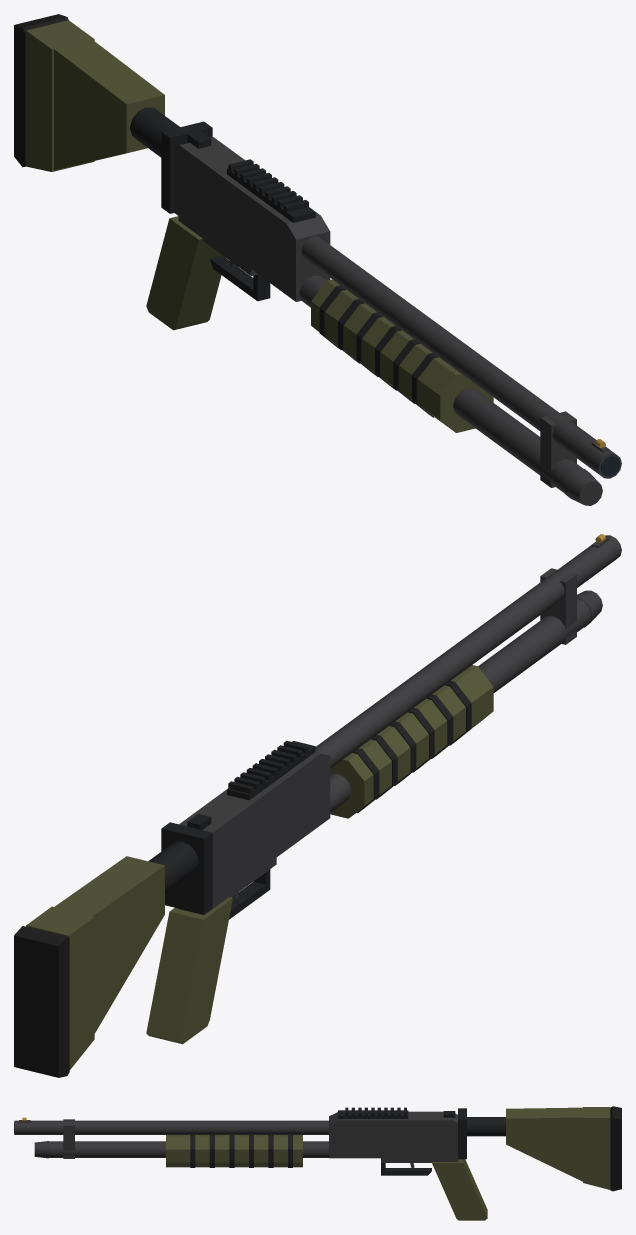
Rendered from shotgun.glb.
3 renders of one model, top to bottom at view 1: azimuth 30°, elevation 25°; view 2: azimuth 150°, elevation 25°; view 3: azimuth 270°, elevation 25°, orthographic. The views are drawn at different scales.
Parts seen in each view (by area): view 1: shotgun; view 2: shotgun; view 3: shotgun.
Boxes of the visible parts, x1=… form: shotgun: x1=14, y1=14, x2=621, y2=505; shotgun: x1=14, y1=534, x2=621, y2=1077; shotgun: x1=14, y1=1106, x2=621, y2=1220.
Bounding box in the file's own units: 0.0515 × 0.1795 × 0.9336.
1 material, 1 textured.
